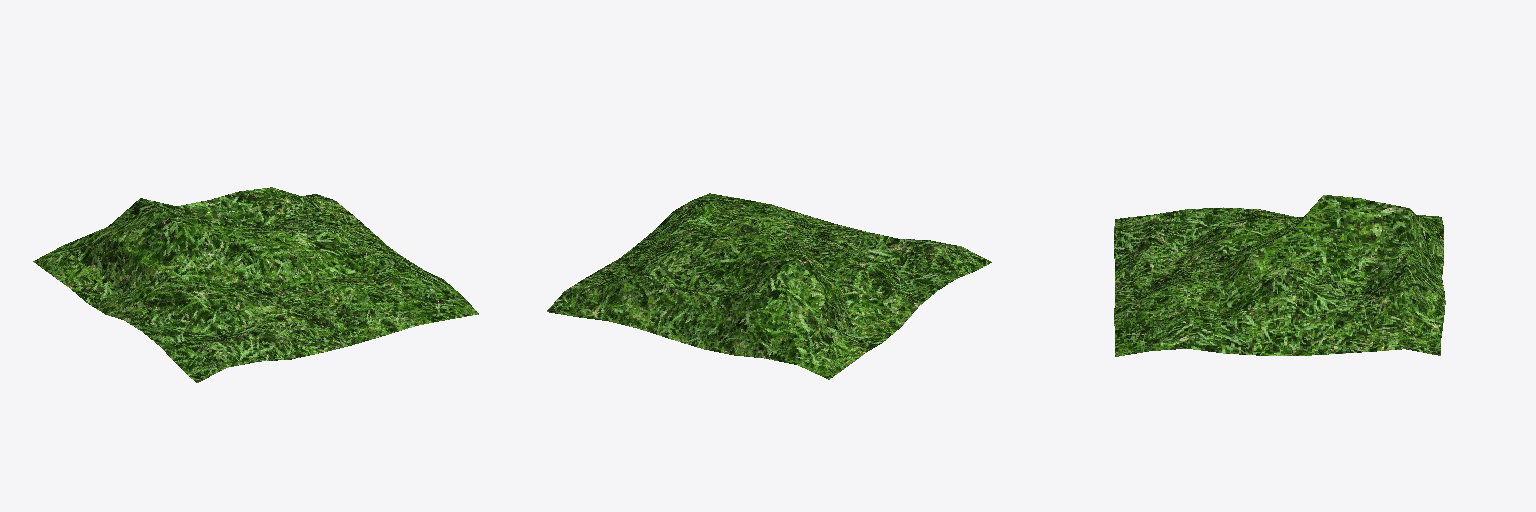
3 renders of one model, left to right at view 1: azimuth 30°, elevation 25°; view 2: azimuth 150°, elevation 25°; view 3: azimuth 270°, elevation 25°, orthographic.
Parts seen in each view (by area): view 1: Grid; view 2: Grid; view 3: Grid.
Boxes of the visible parts, x1,y1,x2,y2 form: Grid: [33, 187, 478, 382]; Grid: [547, 193, 991, 379]; Grid: [1114, 195, 1445, 356].
Bounding box in the file's own units: 1.99 × 0.4326 × 2.01.
1 materials, 1 textured.